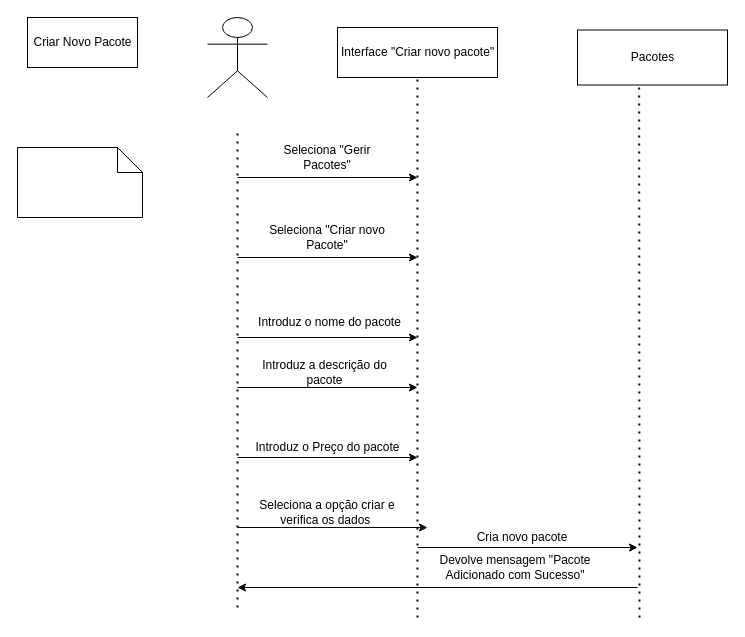
This 745x637 diagram has some shape labels left out. Each missing label, with the box of its shape:
Administrador: (206, 16, 268, 98)
Login válido de administrador: (16, 146, 142, 218)
